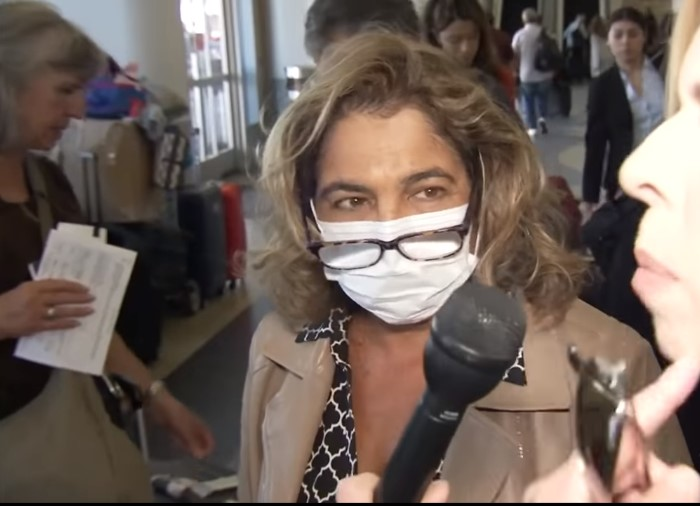face_no_mask: (616, 31, 700, 363), (1, 3, 93, 152), (425, 5, 482, 64), (605, 6, 648, 64)
face_with_mask: (293, 55, 500, 336)
